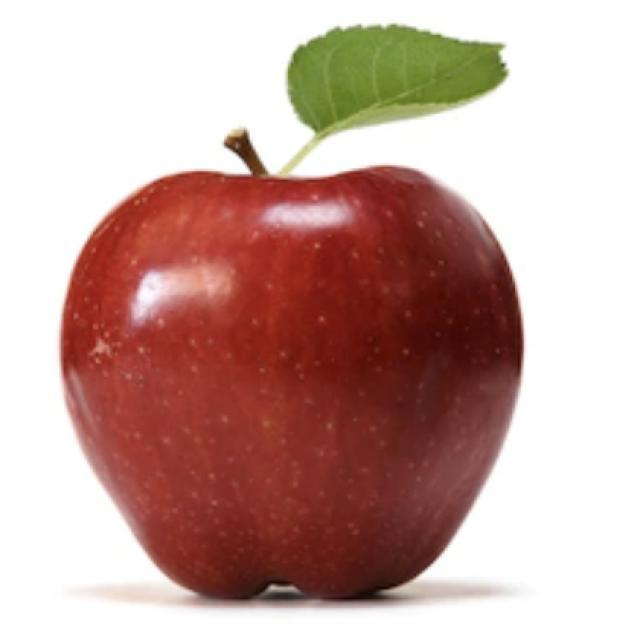Fresh Apple: (73, 170, 507, 588)
